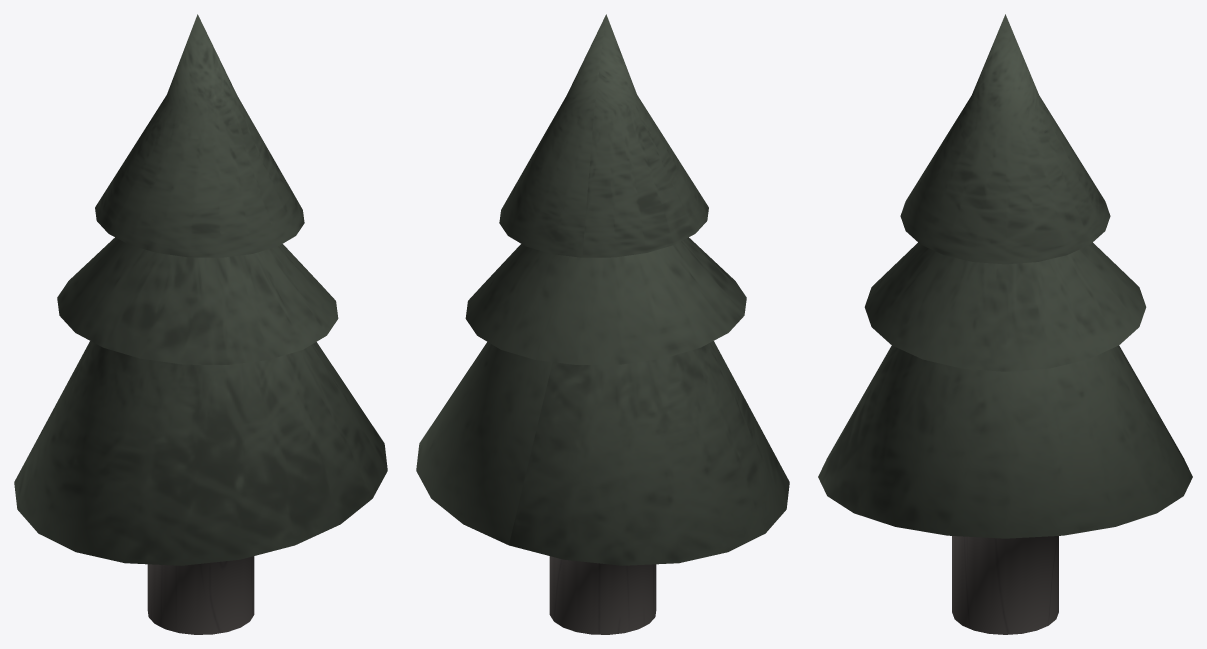
Rendered from PineTree.fbx.
3 renders of one model, left to right at view 1: azimuth 30°, elevation 25°; view 2: azimuth 150°, elevation 25°; view 3: azimuth 270°, elevation 25°, orthographic.
Parts seen in each view (by area): view 1: PineTree01; view 2: PineTree01; view 3: PineTree01.
Part boxes in pixels (<box>): PineTree01: <box>14,14,387,634</box>; PineTree01: <box>416,14,789,634</box>; PineTree01: <box>818,14,1192,634</box>.
Size of the model in its own units: 1.8 by 3.17 by 1.8.
2 materials, 2 textured.
